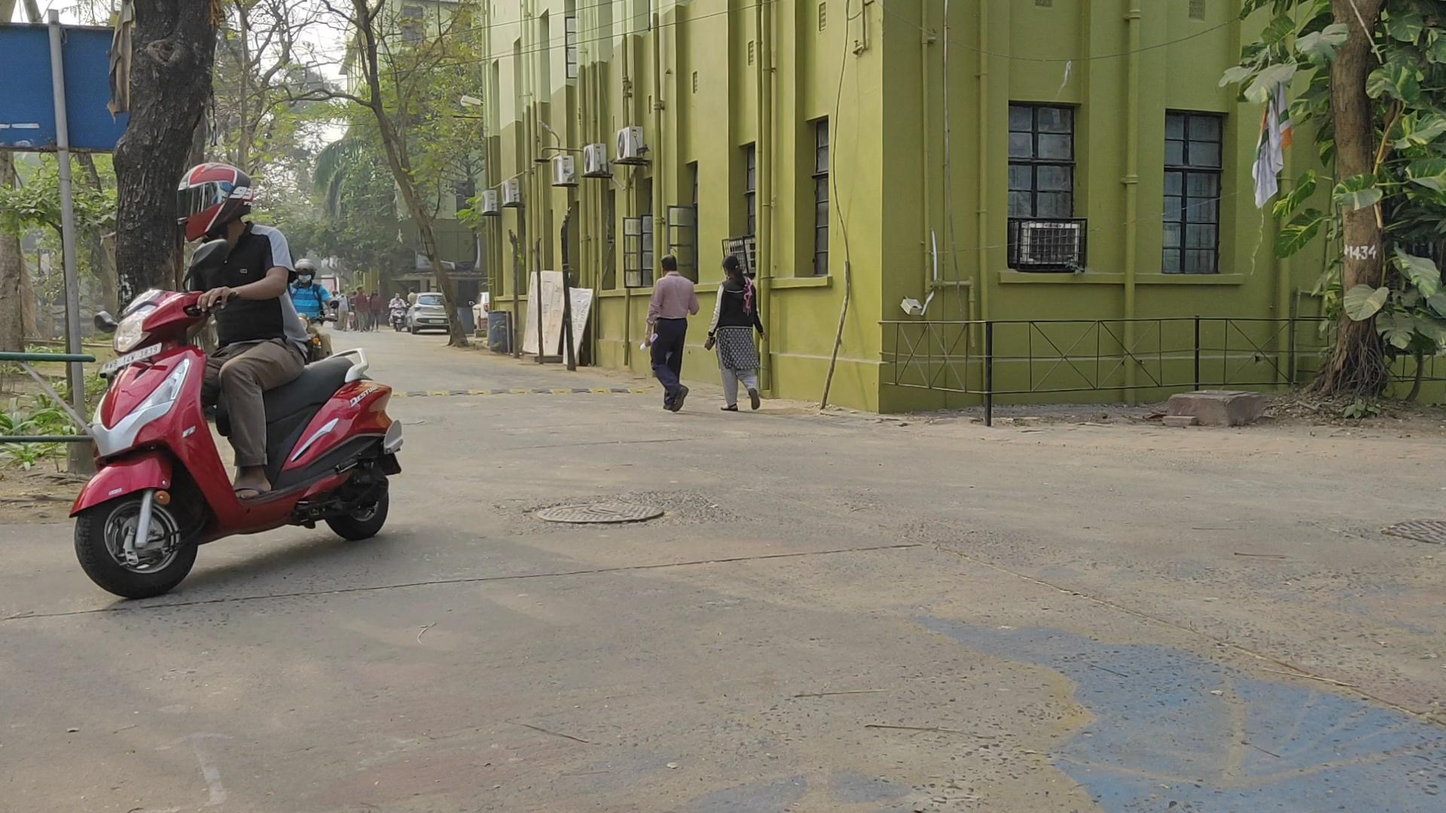bike: (73, 161, 401, 598), (387, 292, 409, 333)
car: (405, 292, 451, 334)
